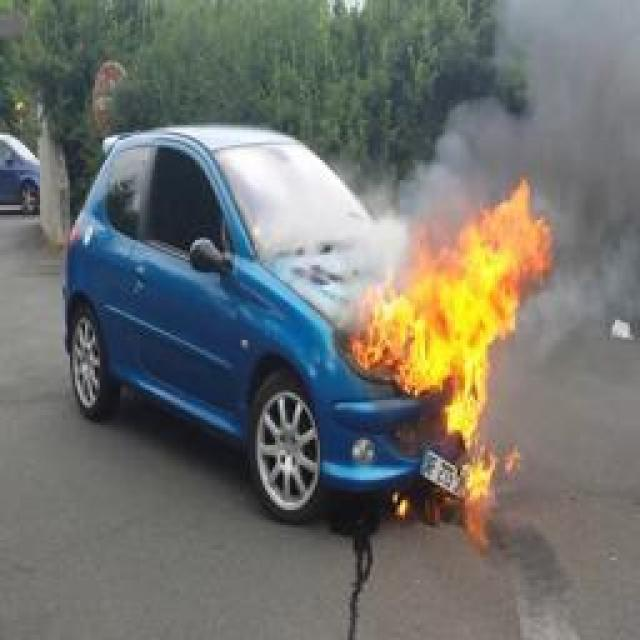Fire: (352, 180, 552, 445), (461, 452, 499, 550)
